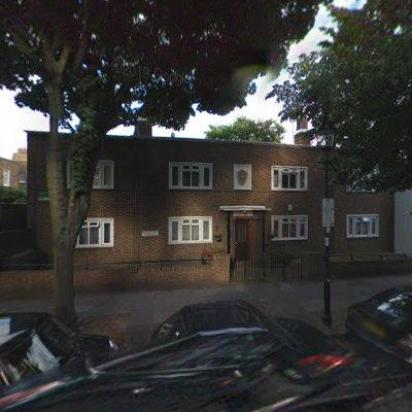stationary-car-onstreet: (136, 298, 357, 412), (0, 312, 127, 412), (346, 281, 412, 375)
